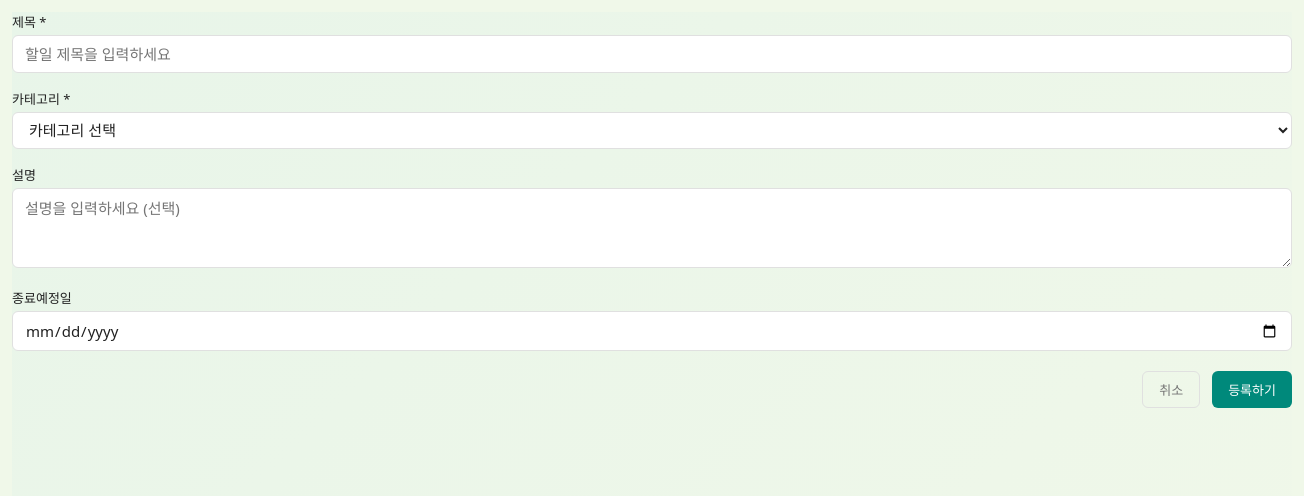
Test: TodoForm › 과거 날짜 입력 시 에러를 표시한다
Type "2020-01-01" into the date field labelled "종료예정일". click: (652, 331)
box: [12, 311, 1292, 351]
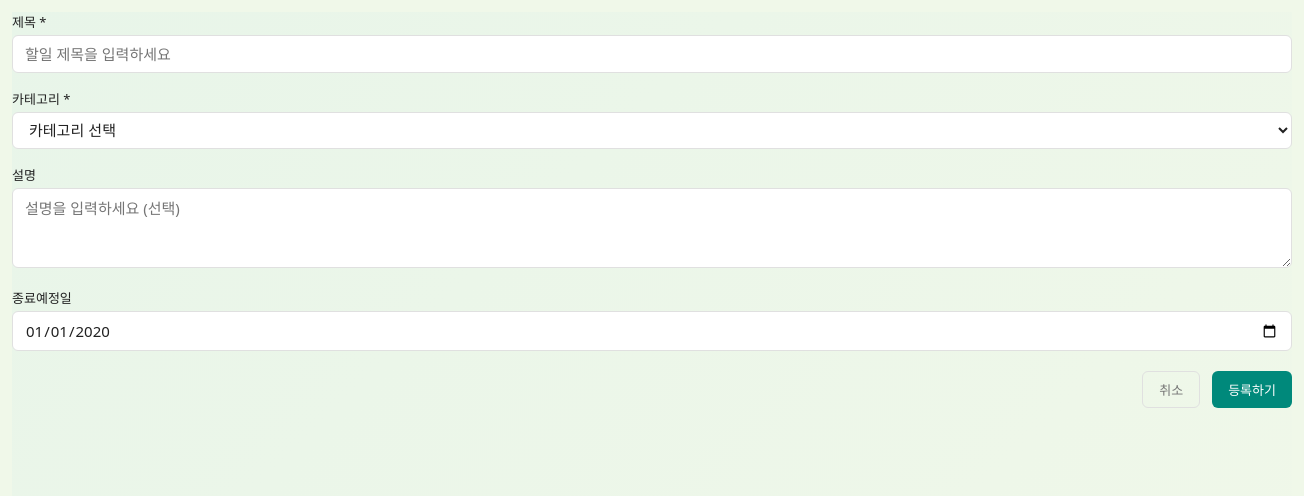
Click the button "등록하기". click: (1252, 390)
box: [1212, 371, 1292, 408]
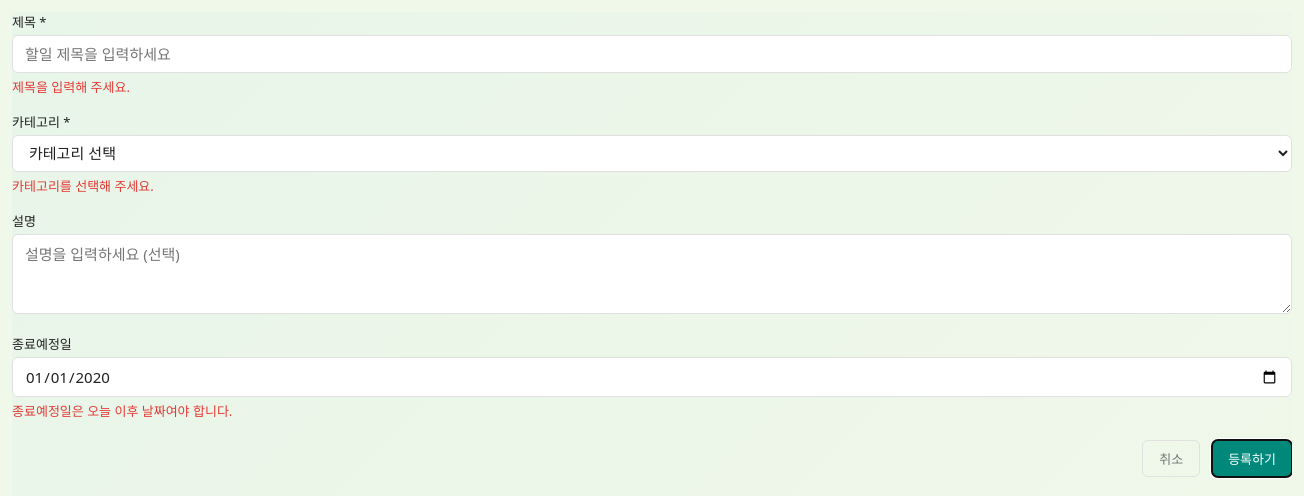
Expected: the text "종료예정일은 오늘 이후 날짜여야 합니다." is shown, [12, 402, 232, 420]
